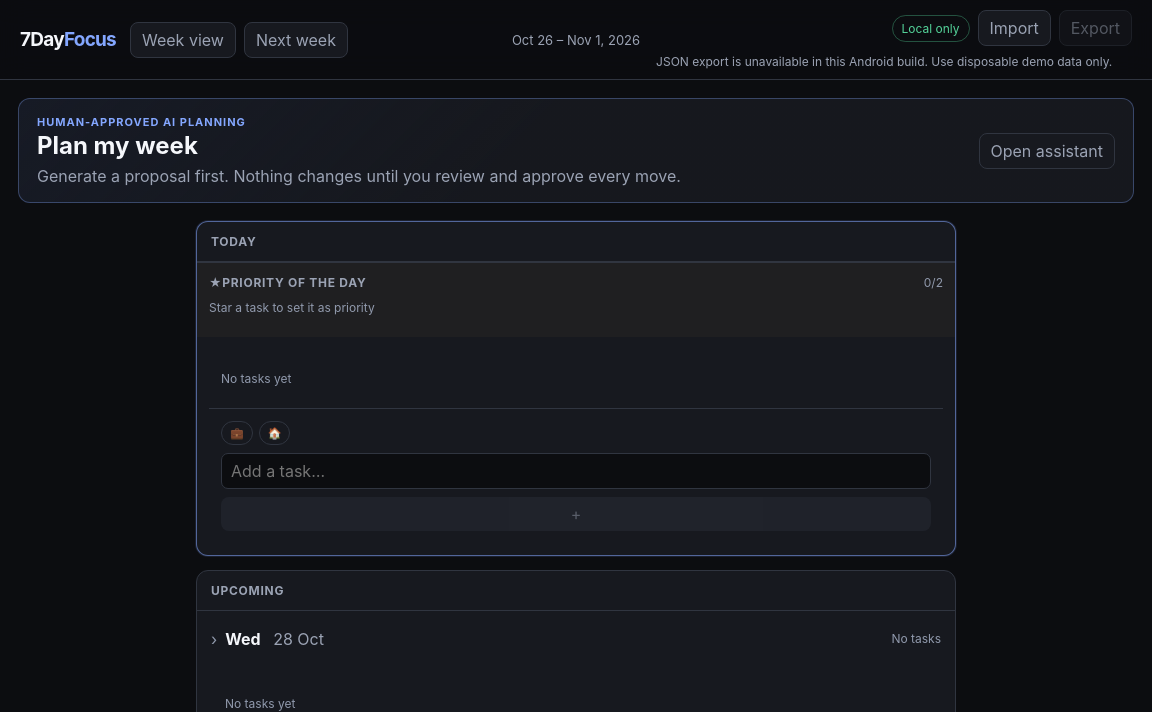
Test: P01 local planner smoke flow › connects packaged-runtime detection to the fixture-only assistant
Click the button "Open assistant": (1047, 150) [978,132,1115,168]
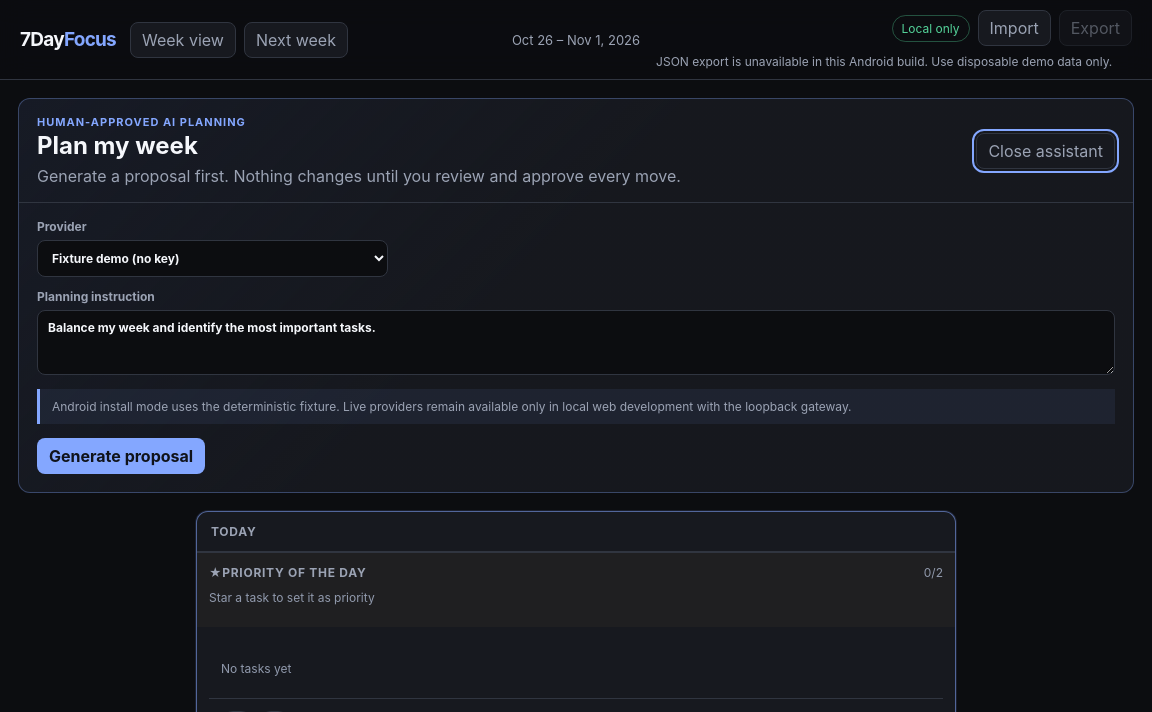
Now the dropdown labelled "Provider" shows "Fixture demo (no key)", box [37,240,388,277]
